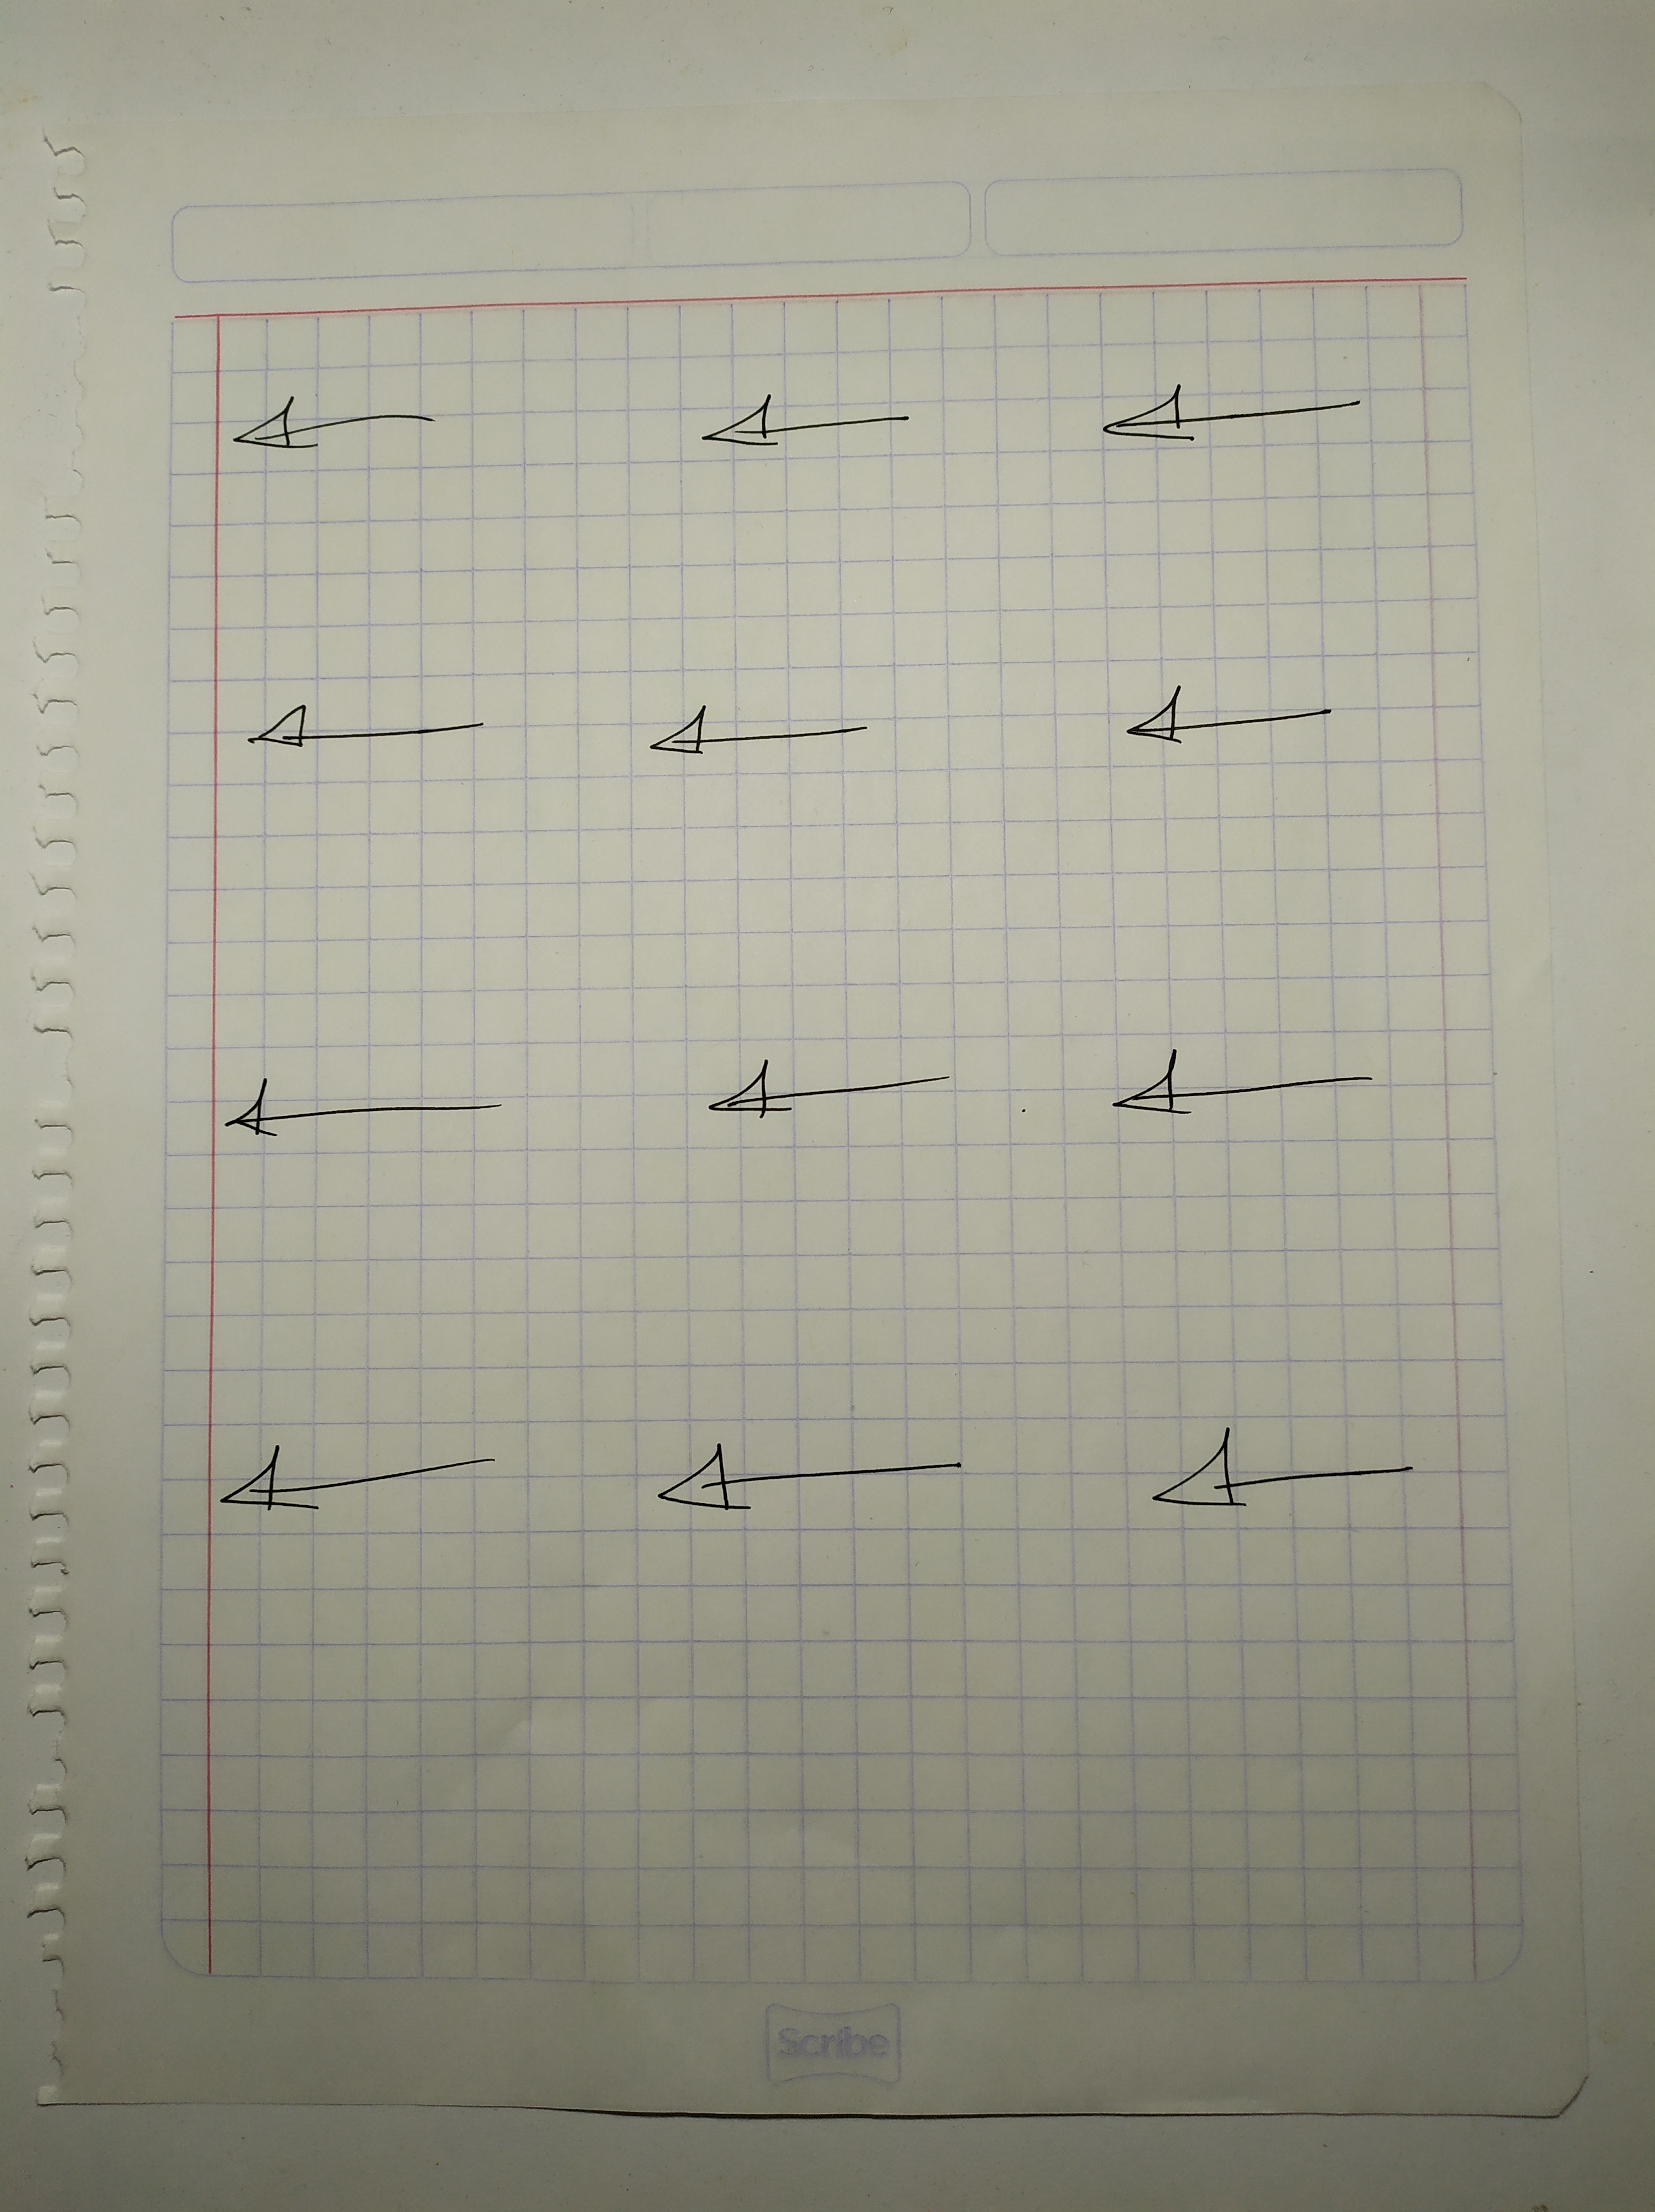arrow_line_left: (628, 1432, 1008, 1531), (1135, 1414, 1453, 1527), (193, 1435, 535, 1533), (198, 1056, 532, 1156), (1087, 1039, 1419, 1136), (1081, 368, 1413, 462), (1093, 667, 1380, 763), (676, 1044, 987, 1131), (675, 374, 947, 471), (228, 692, 535, 775), (624, 690, 921, 775), (214, 386, 497, 473)
